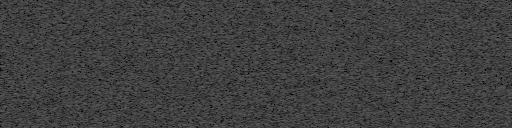wv_am: (152, 0, 158, 128)
wv_cw: (467, 0, 473, 128)
wv_usb: (236, 2, 242, 128)
